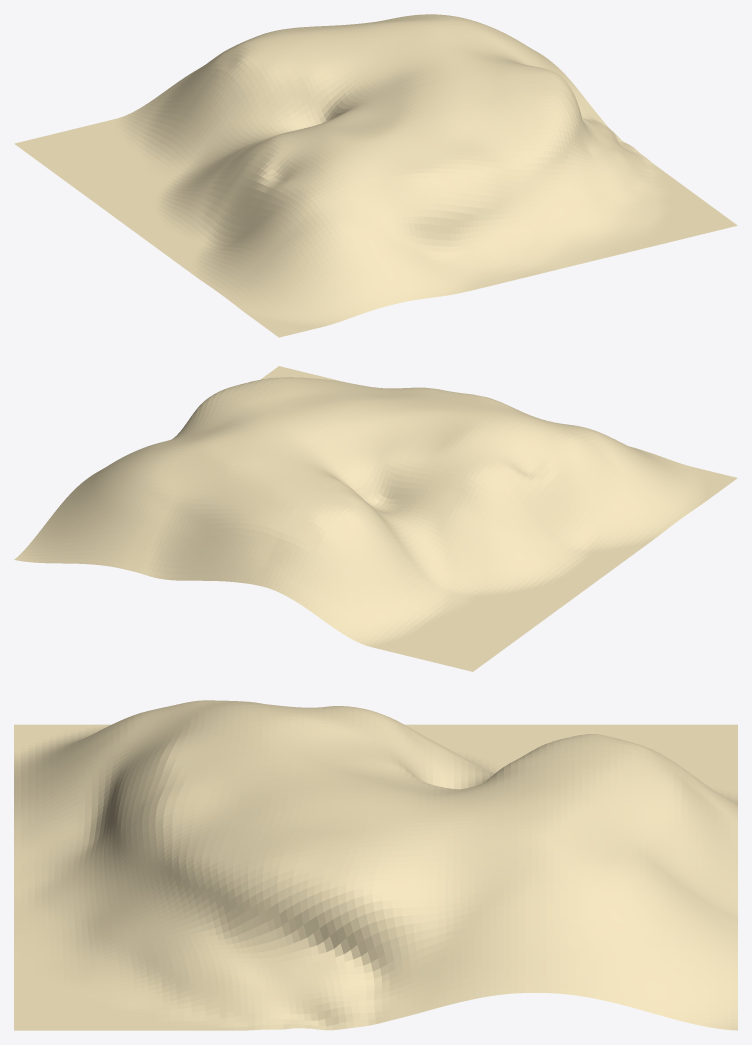
Rendered from Ile1.fbx.
3 views of the same model, one above another, from view 1: azimuth 30°, elevation 25°; view 2: azimuth 150°, elevation 25°; view 3: azimuth 270°, elevation 25° (orthographic). The views are drawn at different scales.
Parts seen in each view (by area): view 1: Plane.008; view 2: Plane.008; view 3: Plane.008.
Boxes of the visible parts, bbox=[...] form: Plane.008: bbox=[14, 14, 737, 337]; Plane.008: bbox=[14, 366, 737, 671]; Plane.008: bbox=[14, 700, 737, 1030].
Size of the model in its own units: 3752 by 721 by 3750.
